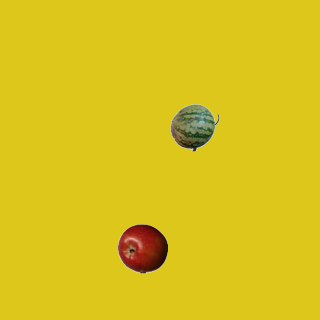Apple Braeburn: (117, 223, 167, 273)
Watermelon: (169, 102, 219, 152)
